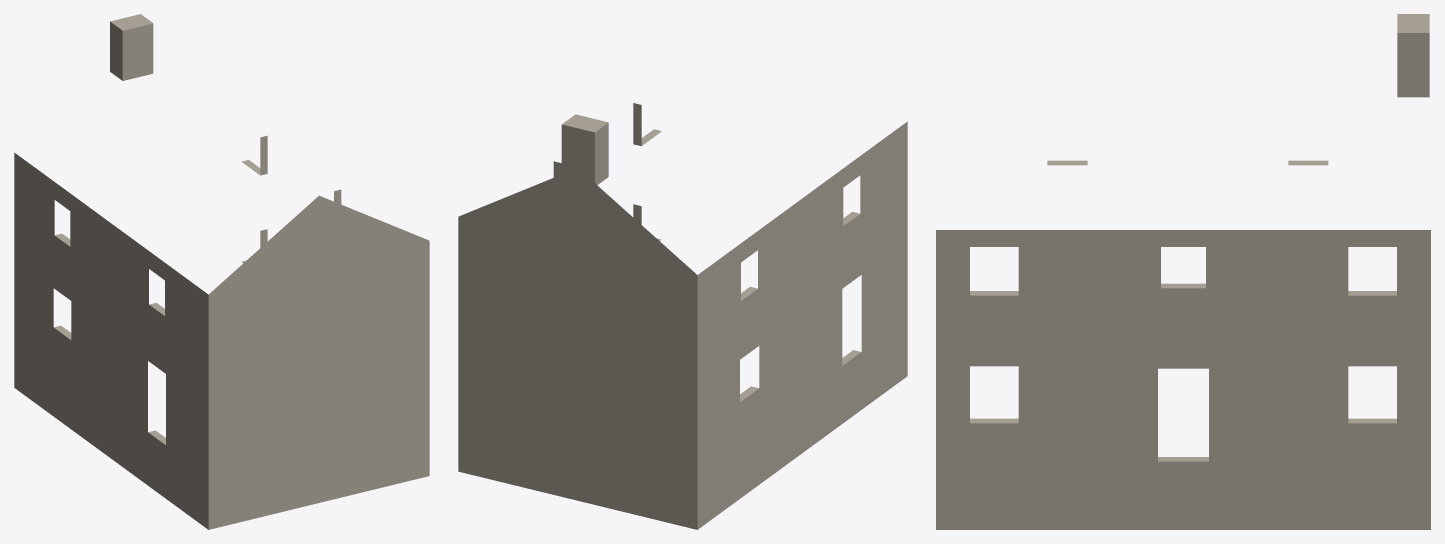
Rendered from SM_Bld_129_Render.glb.
The picture shows the model from 3 angles, left to right: view 1: azimuth 30°, elevation 25°; view 2: azimuth 150°, elevation 25°; view 3: azimuth 270°, elevation 25°; orthographic projection. The views are drawn at different scales.
Parts seen in each view (by area): view 1: SM_Bld_129_Render; view 2: SM_Bld_129_Render; view 3: SM_Bld_129_Render.
Boxes of the visible parts, bbox=[...] form: SM_Bld_129_Render: bbox=[14, 14, 429, 529]; SM_Bld_129_Render: bbox=[458, 103, 907, 529]; SM_Bld_129_Render: bbox=[936, 14, 1430, 529].
Size of the model in its own units: 6.49 by 9.63 by 9.87.
